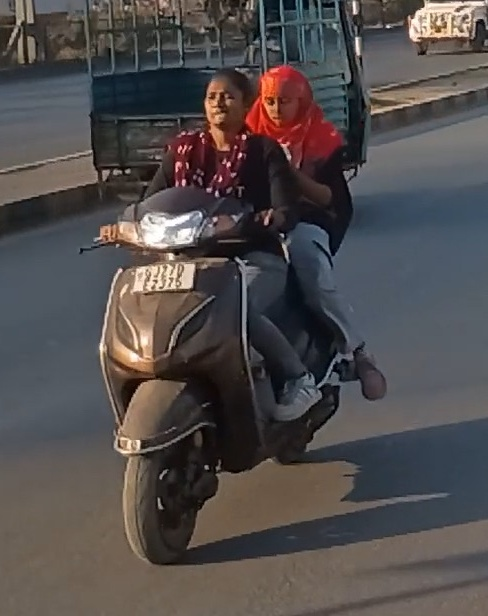BikeWithRider: (77, 56, 394, 575)
NoHelmet: (246, 61, 323, 133), (191, 66, 261, 137)
